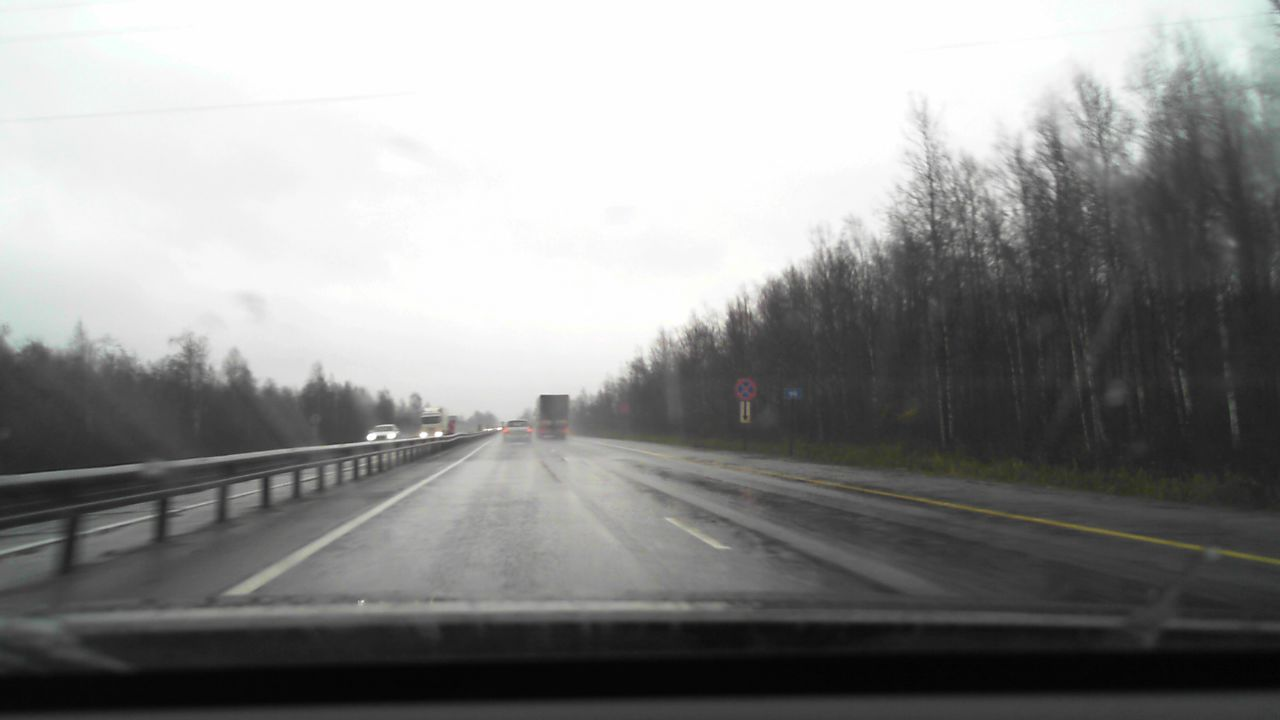No Parking: (734, 377, 756, 399)
